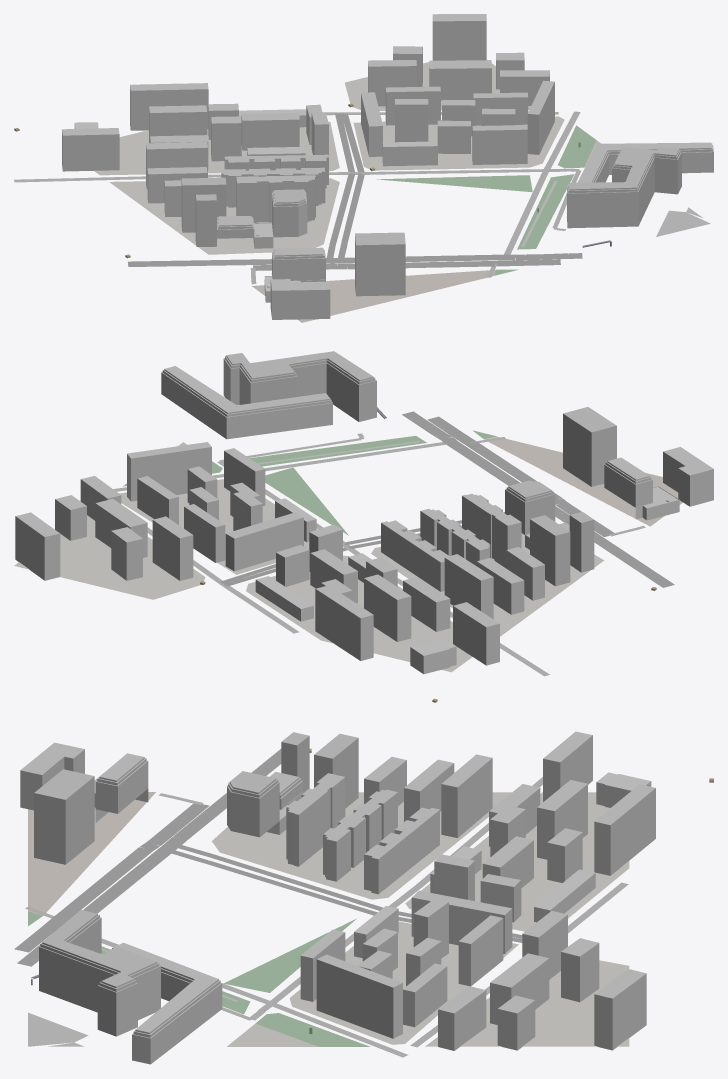
The picture shows the model from 3 angles, top to bottom: view 1: azimuth 30°, elevation 25°; view 2: azimuth 150°, elevation 25°; view 3: azimuth 270°, elevation 25°; orthographic projection. The views are drawn at different scales.
Bounding box in the file's own units: 651 × 60.65 × 582.
